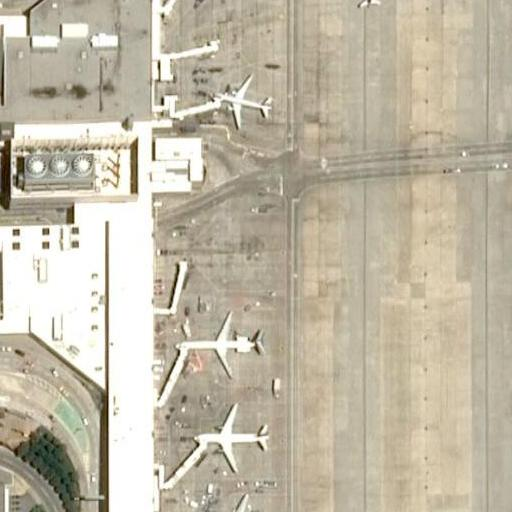Aircraft: (178, 307, 264, 376), (189, 401, 268, 469), (212, 73, 276, 132), (199, 487, 288, 512), (339, 0, 396, 7)
